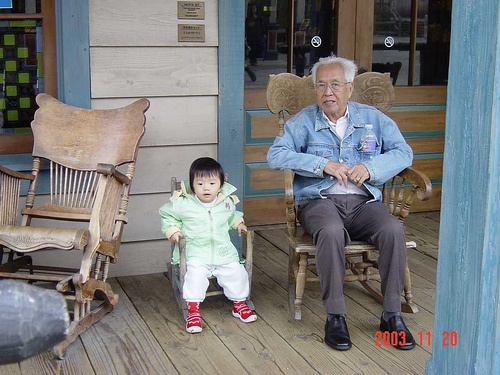head: (310, 54, 356, 117), (189, 157, 226, 203)
person: (272, 64, 421, 340), (159, 153, 253, 333)
